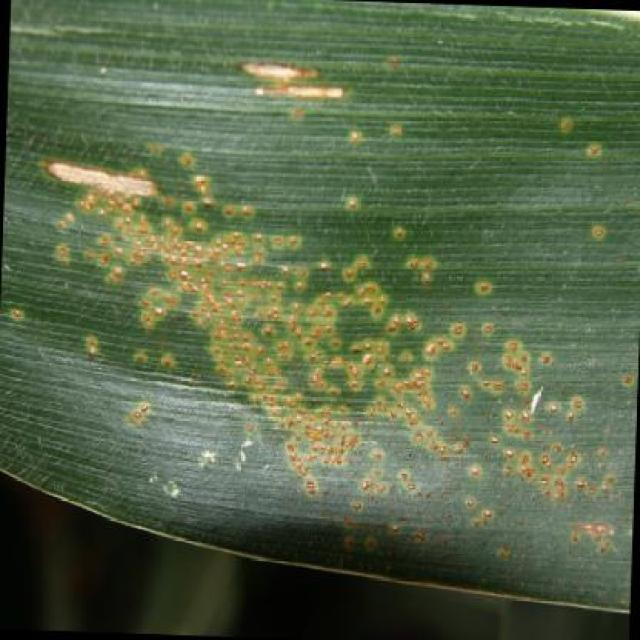Corn_Rust: (20, 5, 626, 608)
